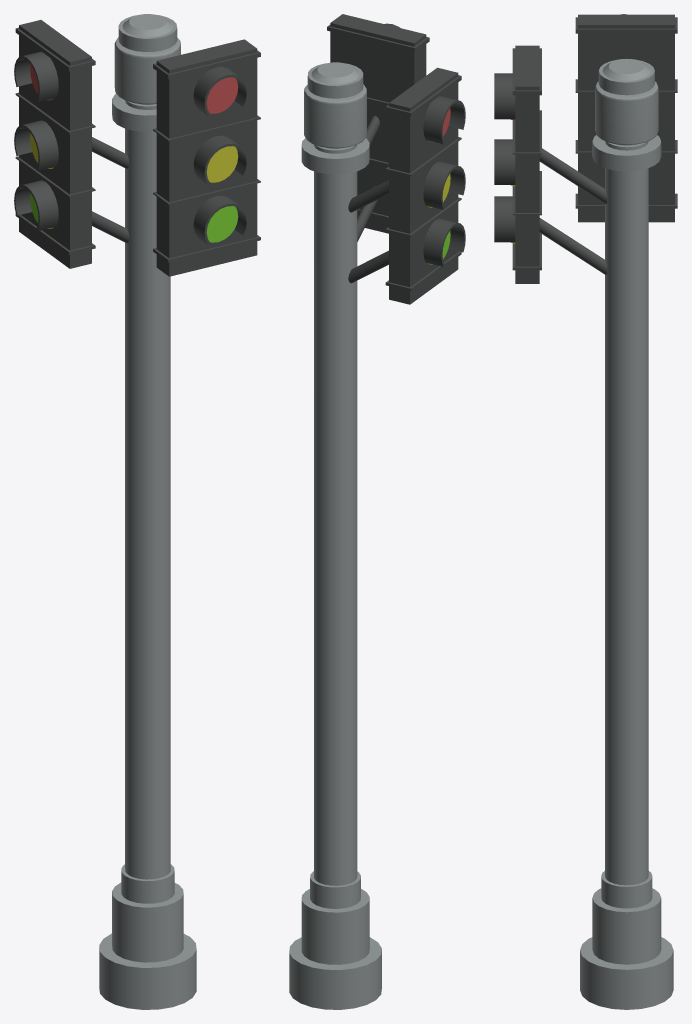
File: TRAFFIC_LIGHTS_02_RAW.fbx
3 renders of one model, left to right at view 1: azimuth 30°, elevation 25°; view 2: azimuth 150°, elevation 25°; view 3: azimuth 270°, elevation 25°, orthographic. The views are drawn at different scales.
Parts seen in each view (by area): view 1: traffic_lights_duual; view 2: traffic_lights_duual; view 3: traffic_lights_duual.
Part boxes in pixels (x1,y1,x2,y2): traffic_lights_duual: [14, 14, 260, 1009]; traffic_lights_duual: [289, 14, 465, 1009]; traffic_lights_duual: [494, 14, 677, 1009].
Size of the model in its own units: 15.76 by 83.2 by 14.9.
